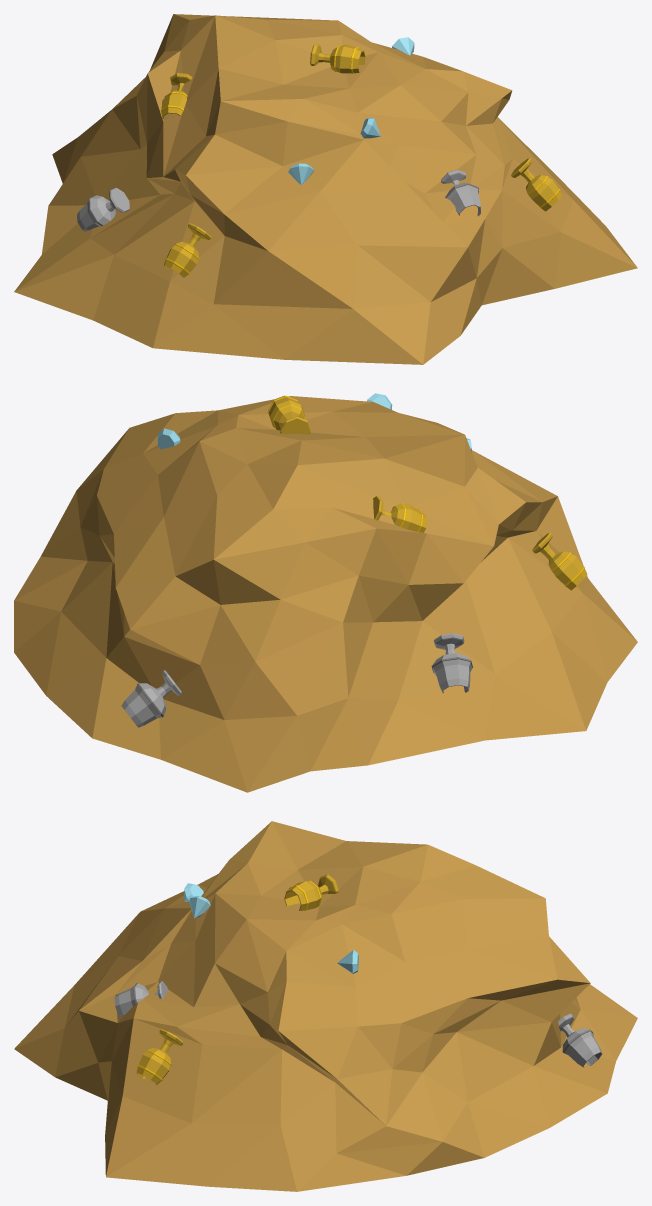
Rendered from GoldPileTreasure.fbx.
3 views of the same model, one above another, from view 1: azimuth 30°, elevation 25°; view 2: azimuth 150°, elevation 25°; view 3: azimuth 270°, elevation 25° (orthographic). The views are drawn at different scales.
Parts seen in each view (by area): view 1: GoldPileTreasure; view 2: GoldPileTreasure; view 3: GoldPileTreasure.
Part boxes in pixels (<box>): GoldPileTreasure: <box>14,14,637,364</box>; GoldPileTreasure: <box>14,393,637,792</box>; GoldPileTreasure: <box>14,821,637,1191</box>.
Bounding box in the file's own units: 288 × 106 × 295.
Materials: 2 (2 with a texture image).
